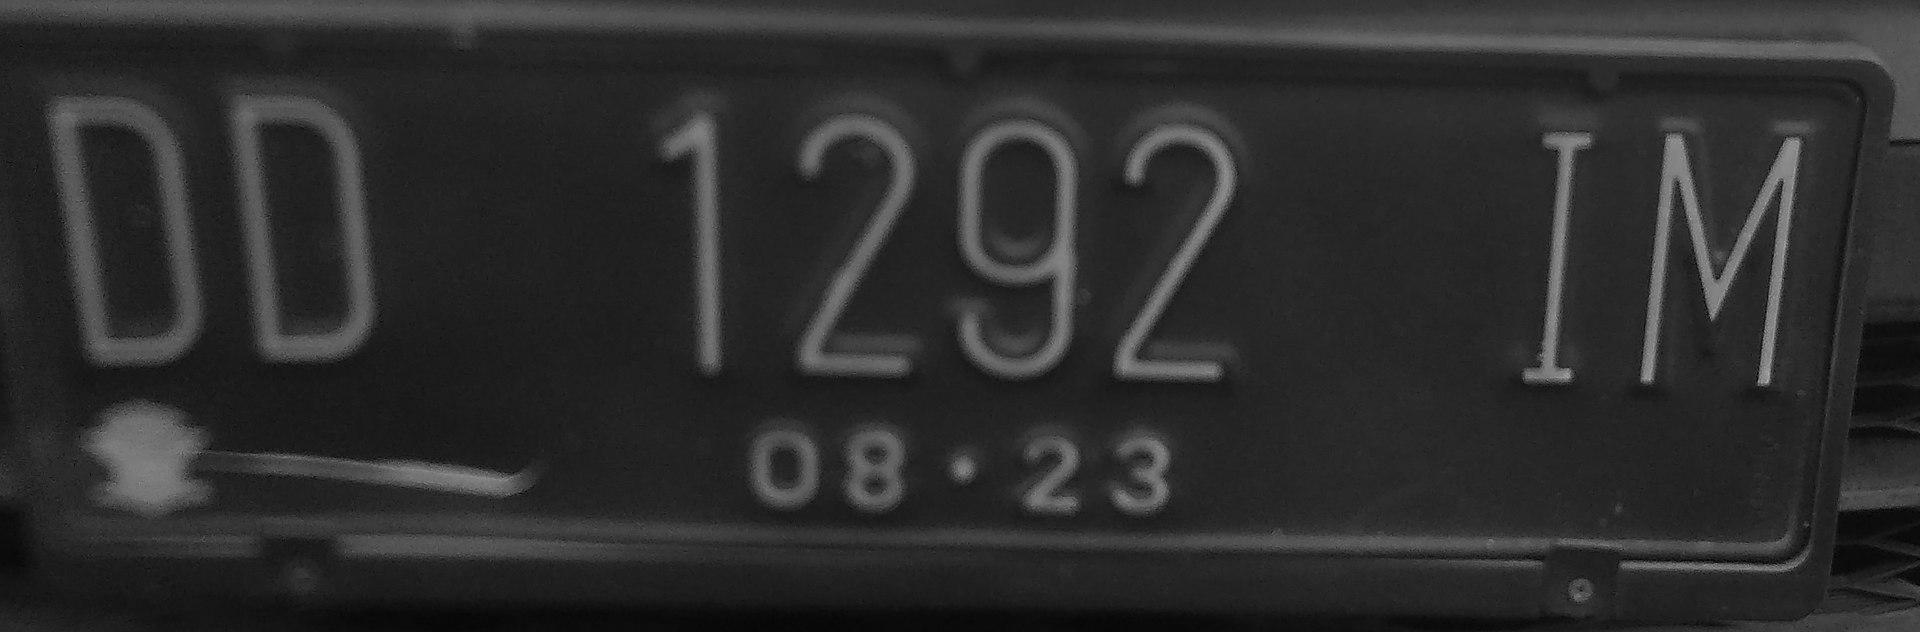1: (648, 91, 768, 381)
2: (773, 93, 943, 378), (1104, 100, 1245, 392)
9: (940, 86, 1100, 381)
D: (17, 71, 207, 372), (211, 91, 399, 367)
I: (1513, 104, 1620, 401)
M: (1622, 108, 1821, 402)
